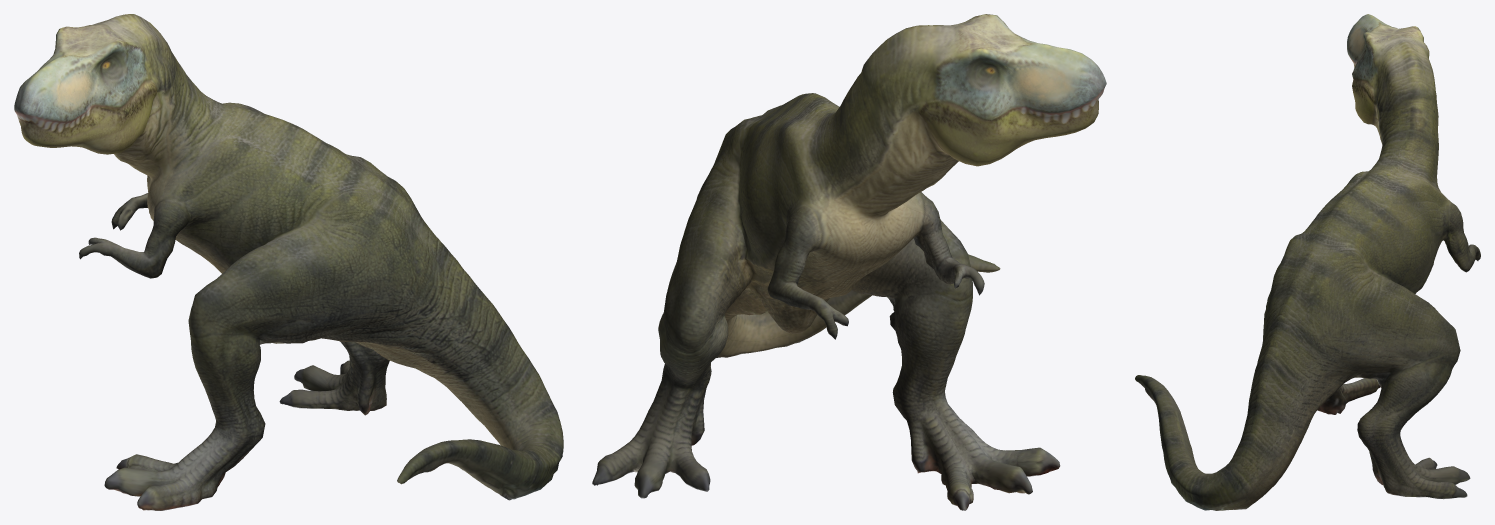
Rendered from T-REX_CAGE_MODEL.OBJ.
The picture shows the model from 3 angles, left to right: view 1: azimuth 30°, elevation 25°; view 2: azimuth 150°, elevation 25°; view 3: azimuth 270°, elevation 25°; orthographic projection. The views are drawn at different scales.
Size of the model in its own units: 4.06 by 3.82 by 3.39.
